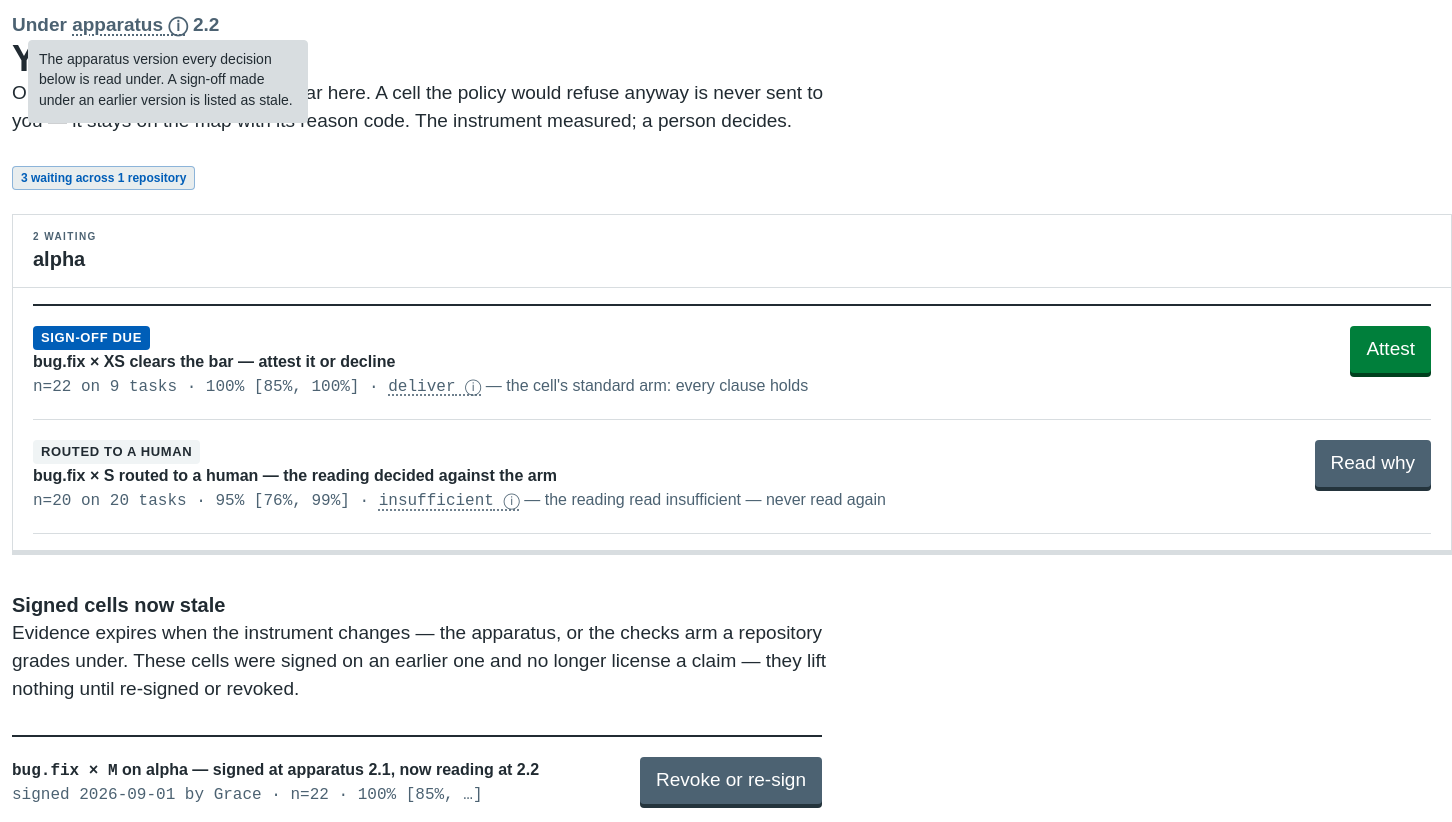
Test case: DecisionsPage › every kicker, pill, tag, evidence line, act and stale row carries a hint; the count pill opens on hover with the registry copy
expect the link "Attest" is shown: met, box [1350,326,1431,373]
Hover over the picture "3 waiting across 1 repository" at (104, 178), box [12,166,195,190]
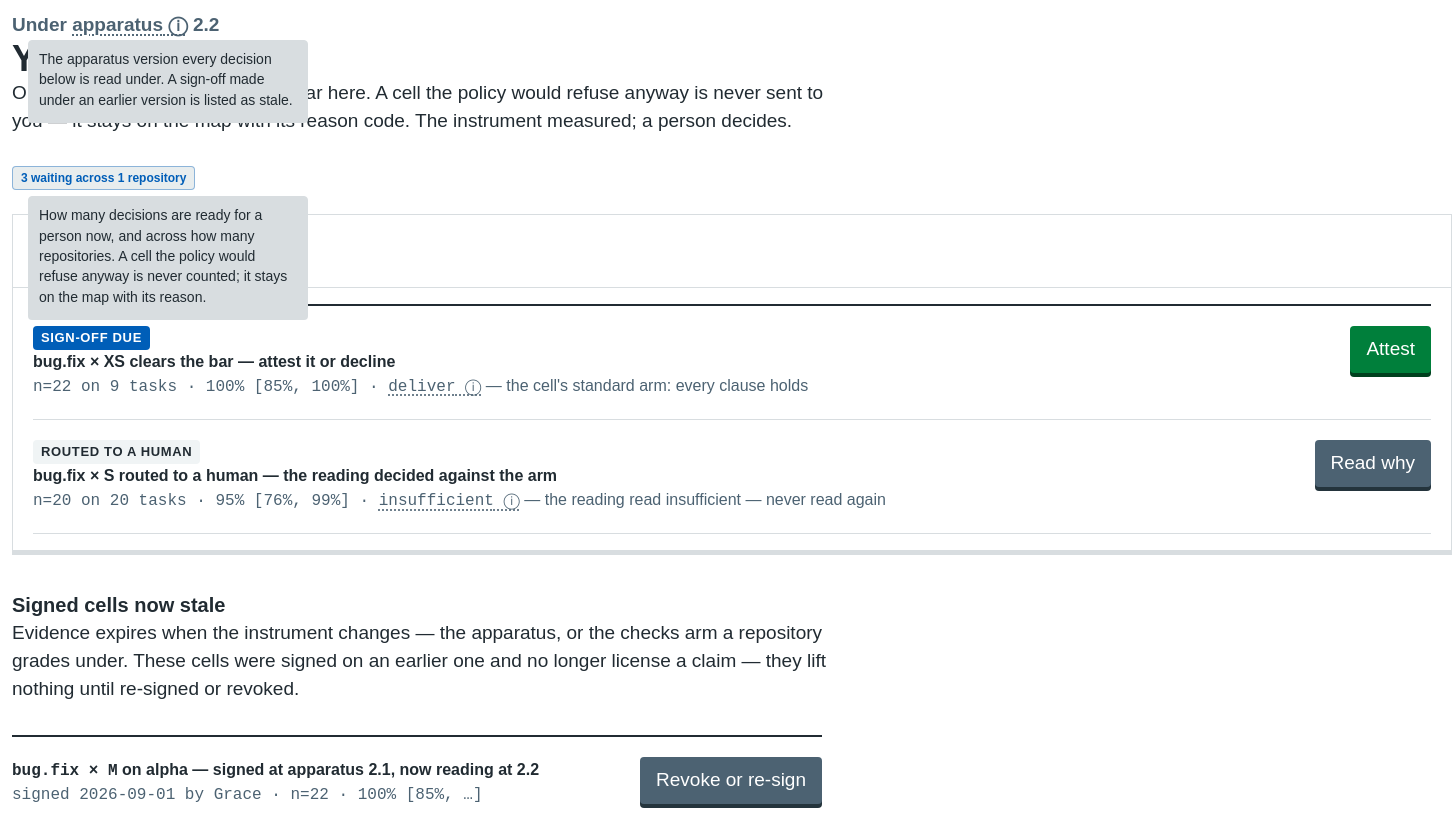
expect the 2nd tooltip shows "How many decisions are ready for a person now, and across how many repositories. A cell the policy would refuse anyway is never counted; it stays on the map wit": met, box [39,207,287,305]
